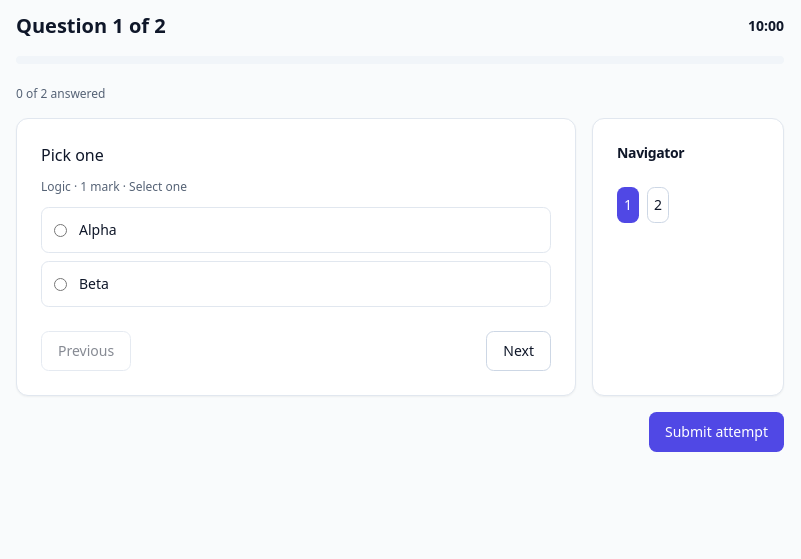
Test: AttemptPage › handles a 409 while saving by locking the attempt and offering the result
Click the radio button labelled "Alpha": (60, 230) [54,224,67,236]
Wait 1000 ms
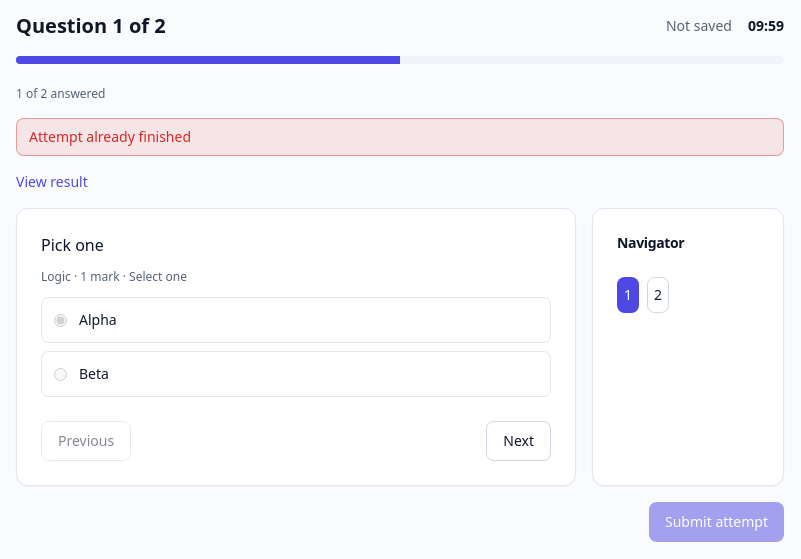
Result: the message reads "Attempt already finished" at [29,127,191,146]
Result: the link "View result" is shown at [16,172,88,191]
Result: the radio button labelled "Beta" is disabled at [54,368,67,380]
